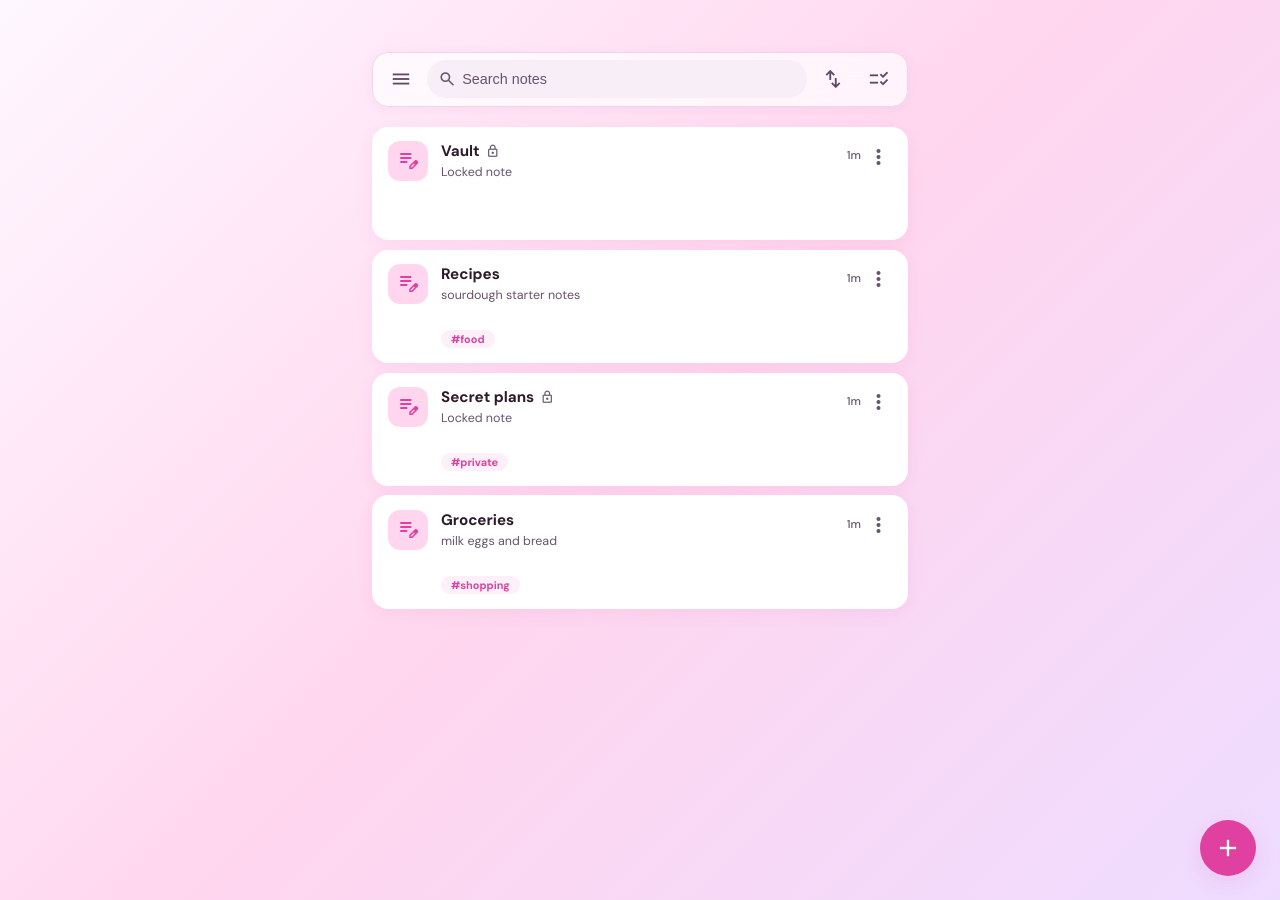
Test: search › never matches a password-protected note
Type "secret" into the field with class "search".
click(629, 79); type("secret")  # box [462,60,796,98]
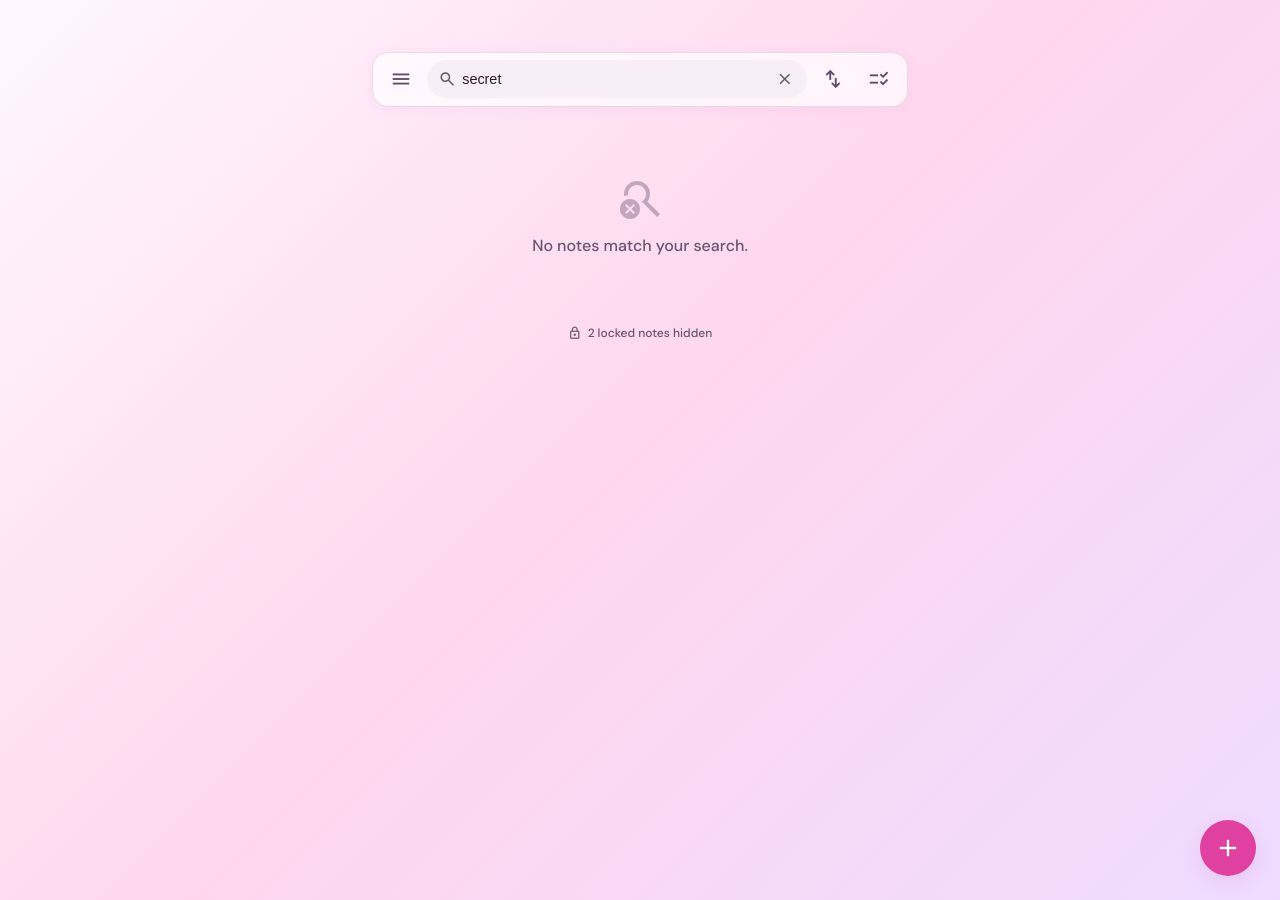
Check: the list item with class "empty" is shown, box [532,170,748,256]
